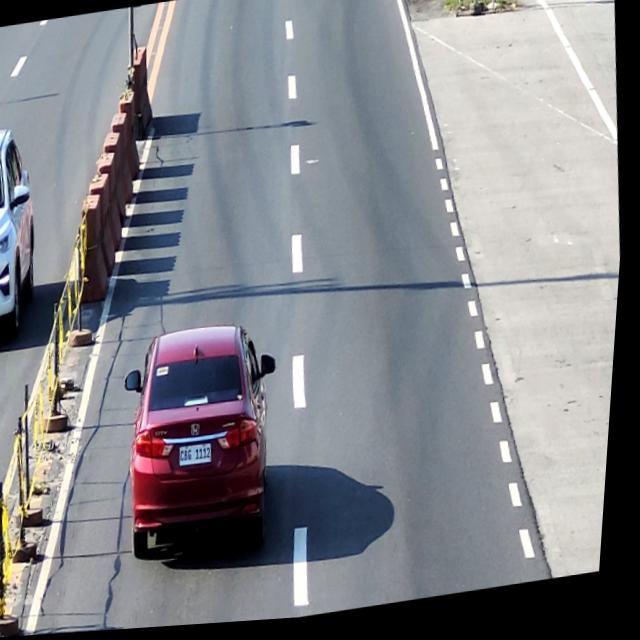Car: (117, 317, 300, 565), (0, 122, 52, 341)
License-Plate: (185, 445, 218, 470)
